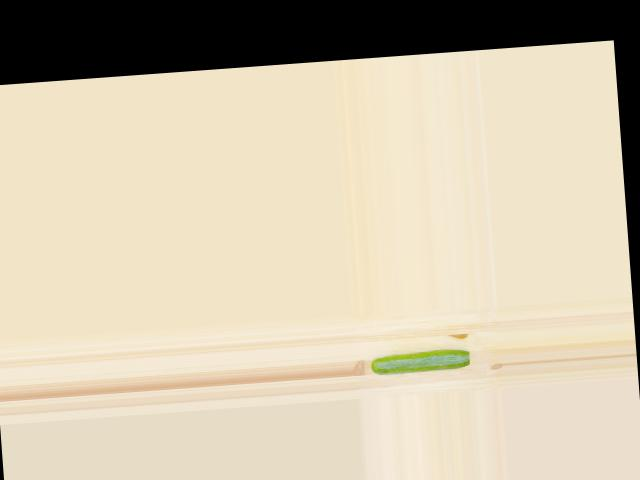cucumber: (370, 348, 469, 375)
